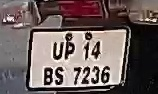1: (81, 41, 91, 62)
2: (82, 66, 92, 85)
3: (91, 66, 100, 86)
4: (91, 41, 101, 62)
6: (100, 66, 112, 85)
7: (72, 65, 81, 86)
B: (42, 66, 53, 85)
P: (64, 40, 75, 61)
S: (54, 66, 67, 86)
U: (50, 41, 64, 62)
